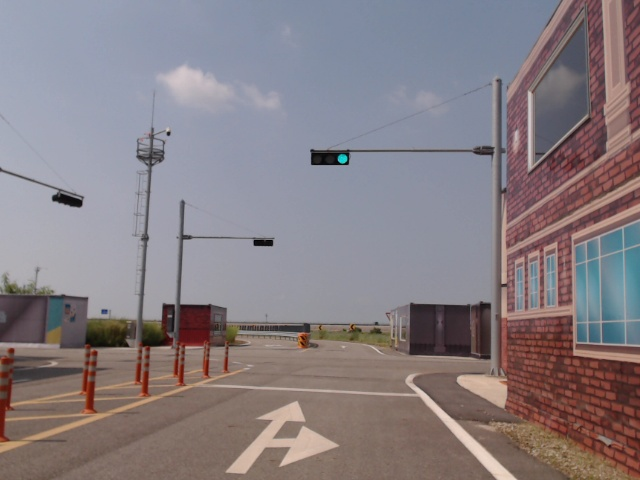green_3: (311, 152, 350, 166)
